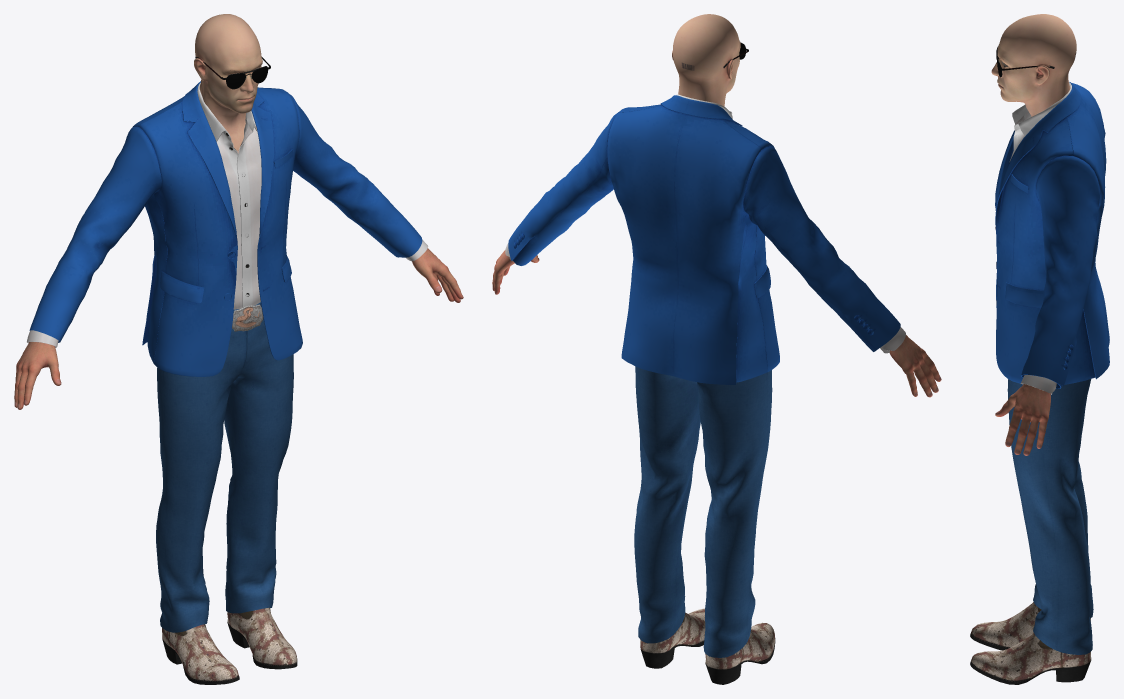
Rendered from man.obj.
3 views of the same model, side by side, from view 1: azimuth 30°, elevation 25°; view 2: azimuth 150°, elevation 25°; view 3: azimuth 270°, elevation 25° (orthographic).
Visible parts, largest first — view 1: obj8, obj11, obj10, obj1, obj14, obj2, obj13; view 2: obj8, obj11, obj1, obj14, obj2; view 3: obj8, obj11, obj1, obj14, obj2, obj10.
Boxes of the visible parts, x1=… form: obj8: x1=29, y1=81, x2=422, y2=376; obj11: x1=156, y1=302, x2=293, y2=632; obj10: x1=27, y1=83, x2=428, y2=347; obj1: x1=194, y1=14, x2=262, y2=150; obj14: x1=162, y1=607, x2=297, y2=684; obj2: x1=14, y1=248, x2=463, y2=409; obj13: x1=232, y1=304, x2=263, y2=331; obj8: x1=508, y1=95, x2=900, y2=384; obj11: x1=634, y1=366, x2=772, y2=657; obj1: x1=672, y1=14, x2=740, y2=106; obj14: x1=640, y1=608, x2=775, y2=684; obj2: x1=492, y1=250, x2=941, y2=397; obj8: x1=995, y1=82, x2=1109, y2=388; obj11: x1=1007, y1=379, x2=1093, y2=654; obj1: x1=991, y1=14, x2=1076, y2=116; obj14: x1=970, y1=602, x2=1091, y2=684; obj2: x1=995, y1=227, x2=1050, y2=455; obj10: x1=1009, y1=82, x2=1071, y2=394.
Bounding box in the file's own units: 74.17 × 103 × 20.24.
15 materials, 14 textured.
